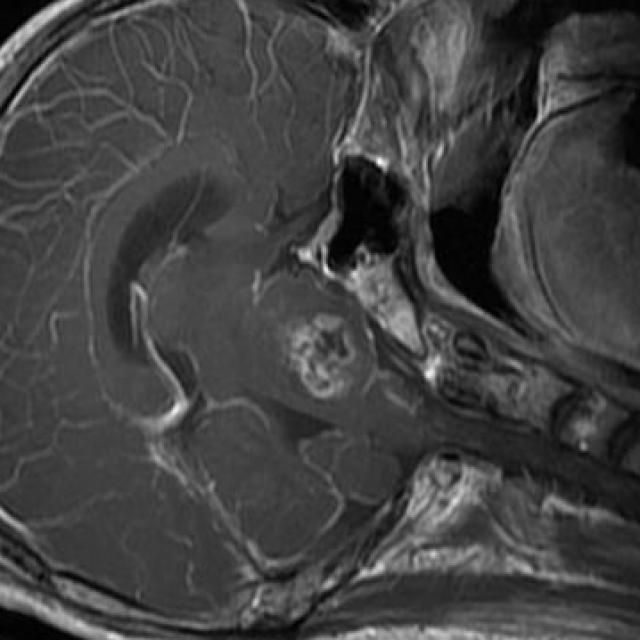glioma: (282, 312, 357, 399)
